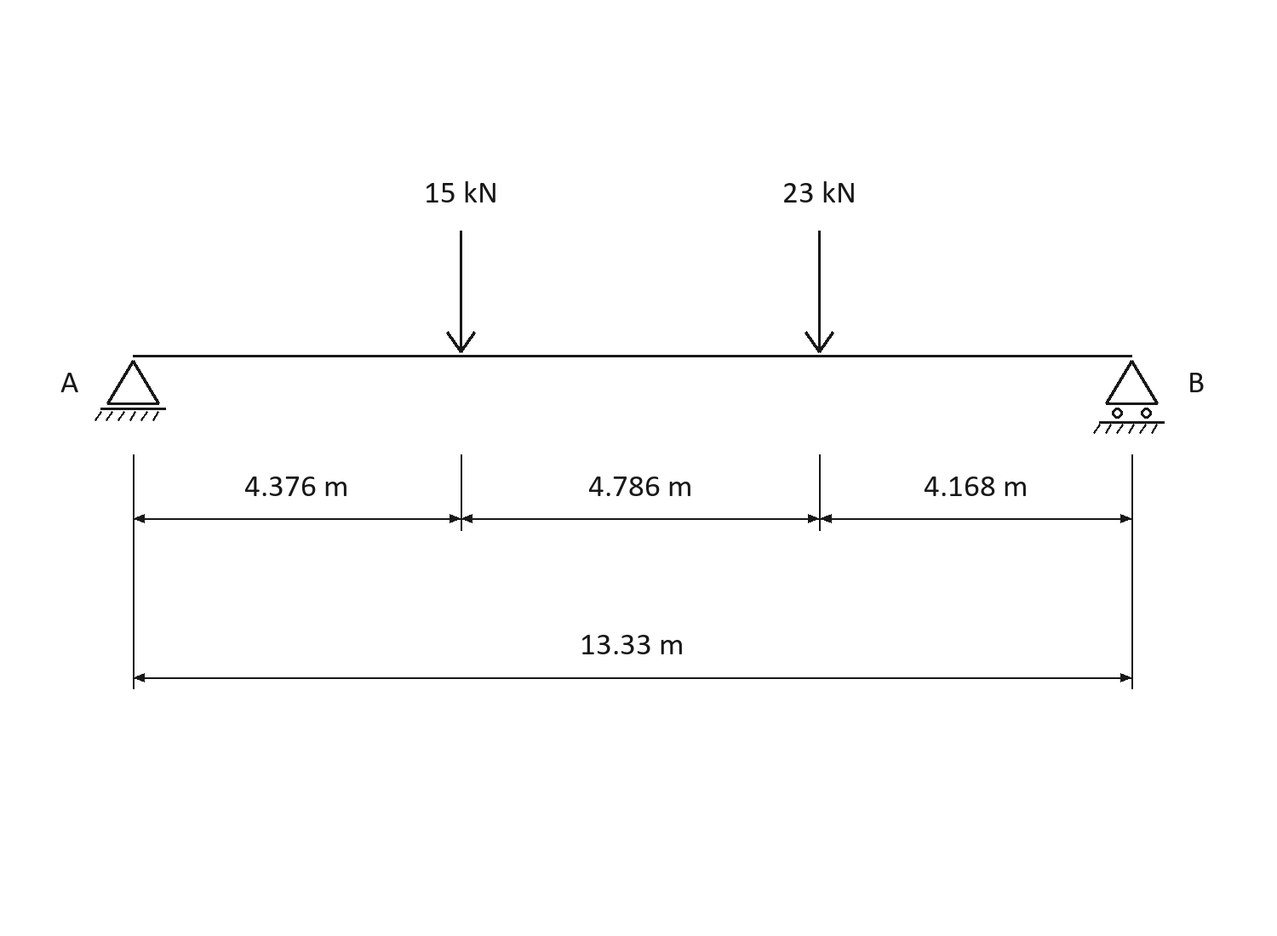pin_support: (94, 360, 166, 421)
point_load: (446, 231, 476, 353), (805, 231, 834, 353)
roller_support: (1093, 360, 1165, 434)
